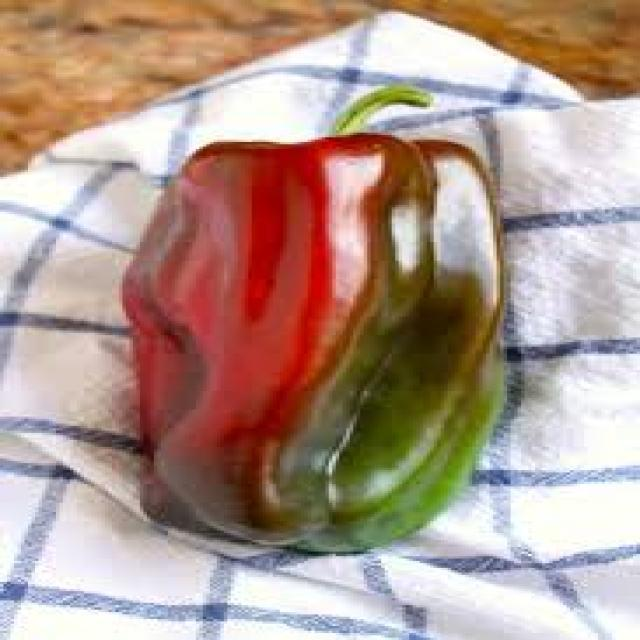Pepper: (120, 87, 513, 560)
